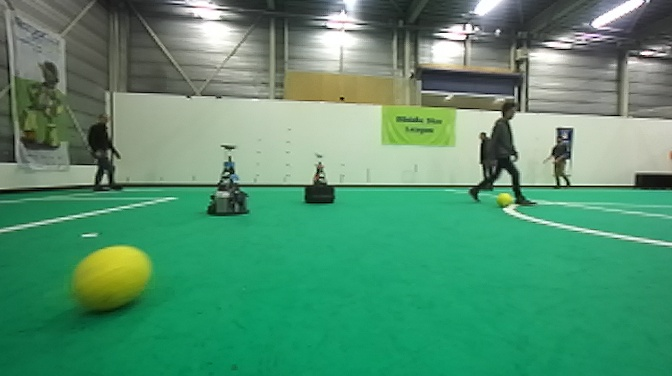ball: (67, 243, 153, 316), (496, 190, 511, 208)
human: (469, 102, 538, 207), (84, 113, 126, 194), (539, 135, 572, 188), (476, 131, 498, 190)
robot: (205, 143, 252, 217), (305, 154, 337, 205)
